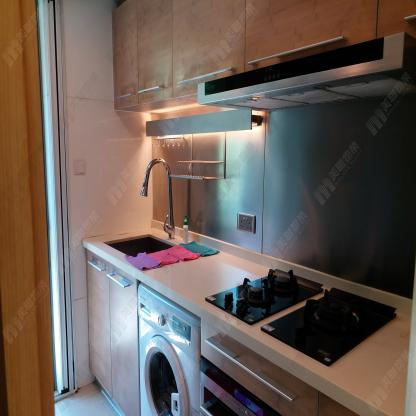Cupboard: (111, 1, 196, 111)
Exhaust Hood: (195, 33, 416, 113)
Faucet: (135, 150, 176, 236)
Sink: (84, 226, 195, 258)
Stove: (241, 283, 408, 384), (183, 263, 327, 333)
Washing Machine: (139, 282, 202, 416)
